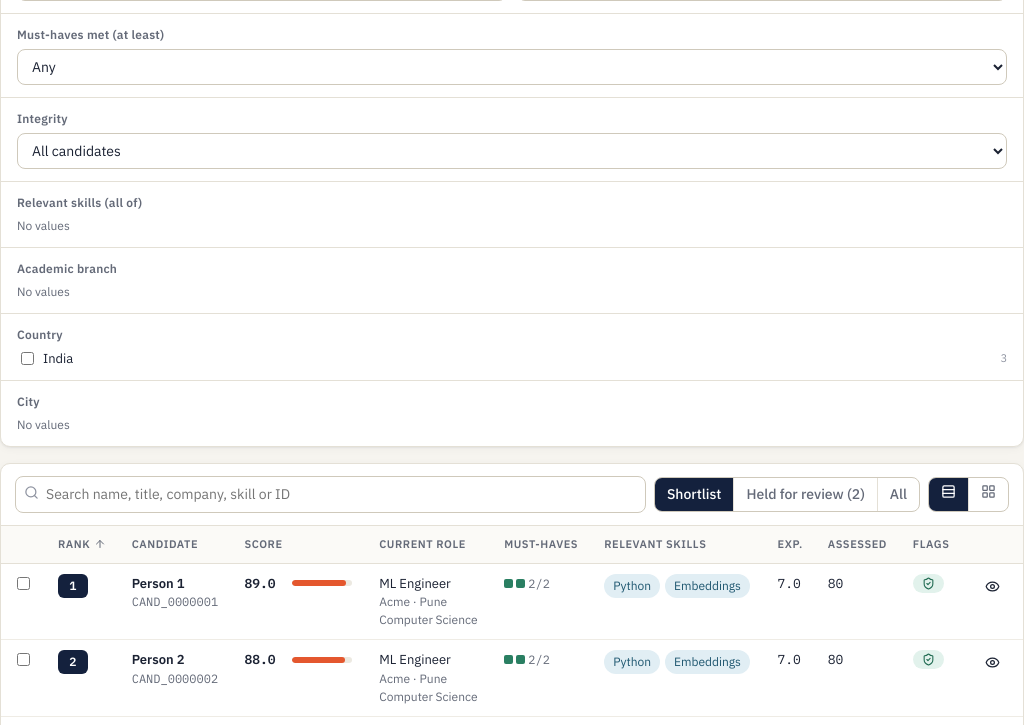
Test case: Run results › renders the shortlist, filters server-side and enables compare for 2+ selections
The image size is (1024, 725).
(page scrolled)
Expected: the link "Person 1" is shown, left=132, top=574, right=184, bottom=592
Expected: the button "Held for review (2)" is shown, left=734, top=478, right=877, bottom=511
Click the checkbox labelled "India 3" at (28, 358), box left=21, top=352, right=34, bottom=365
(page scrolled)
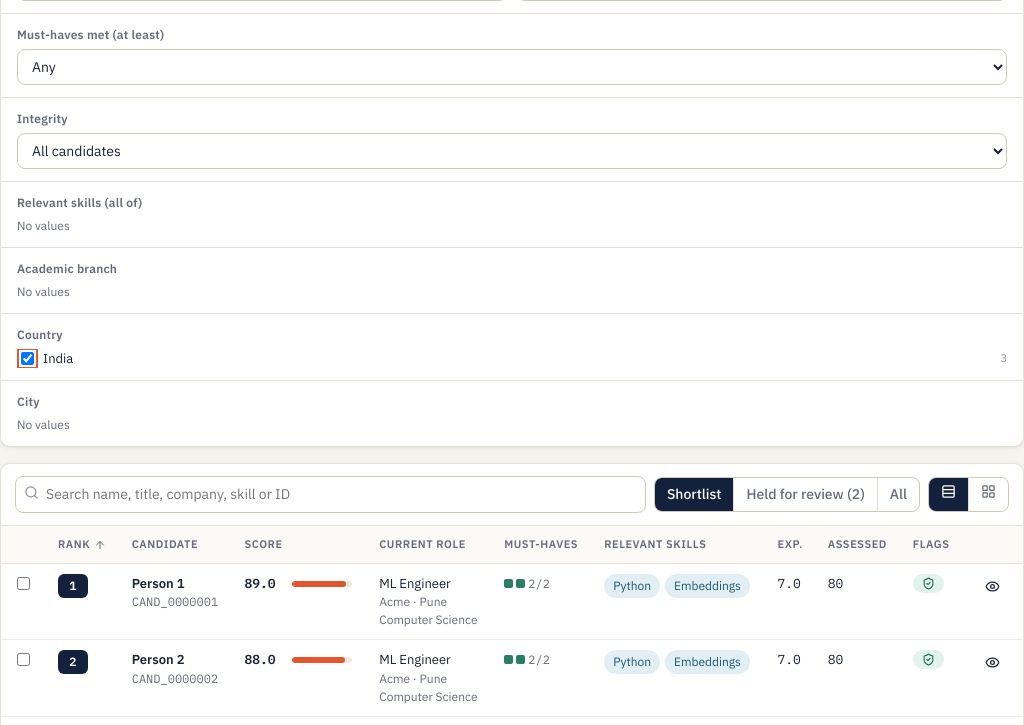
Click the checkbox named "Select CAND_0000001" at (24, 583), box left=17, top=577, right=30, bottom=590
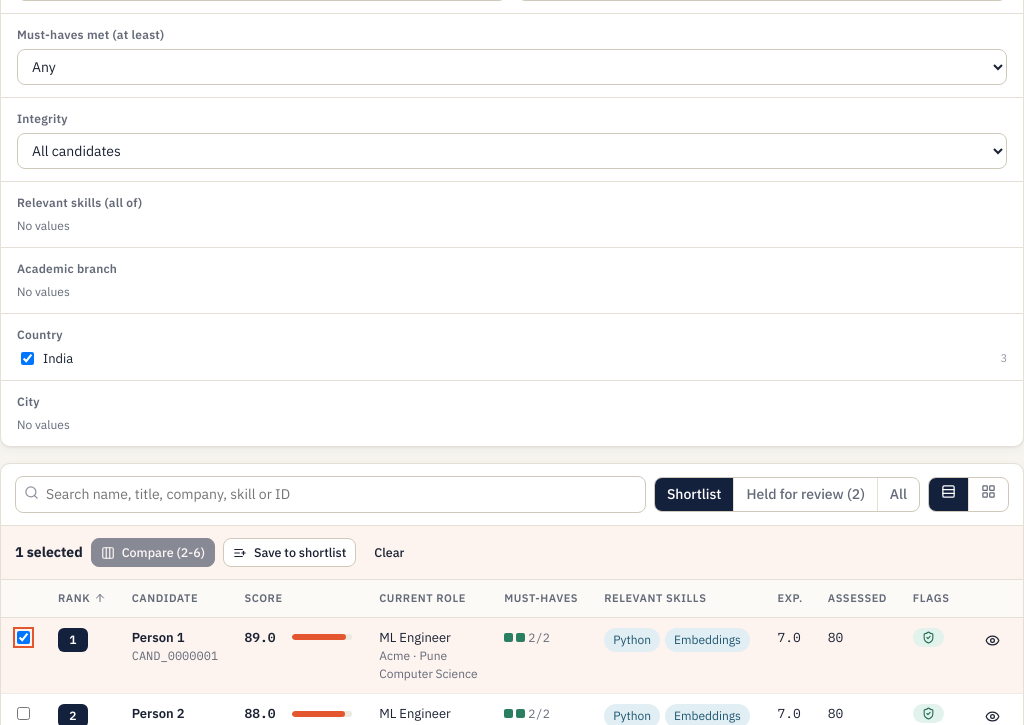
Now the button "Compare (2-6)" is disabled, box left=91, top=538, right=215, bottom=567
Click the checkbox named "Select CAND_0000002" at (24, 714), box left=17, top=707, right=30, bottom=720
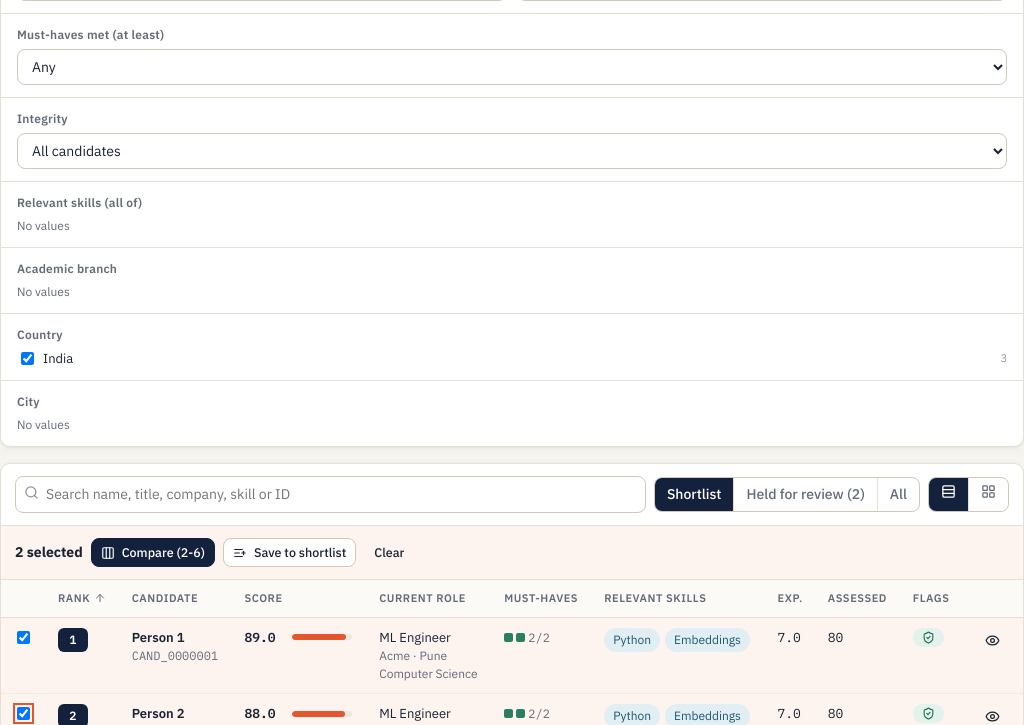
Now the button "Compare (2-6)" is enabled, box left=91, top=538, right=215, bottom=567
